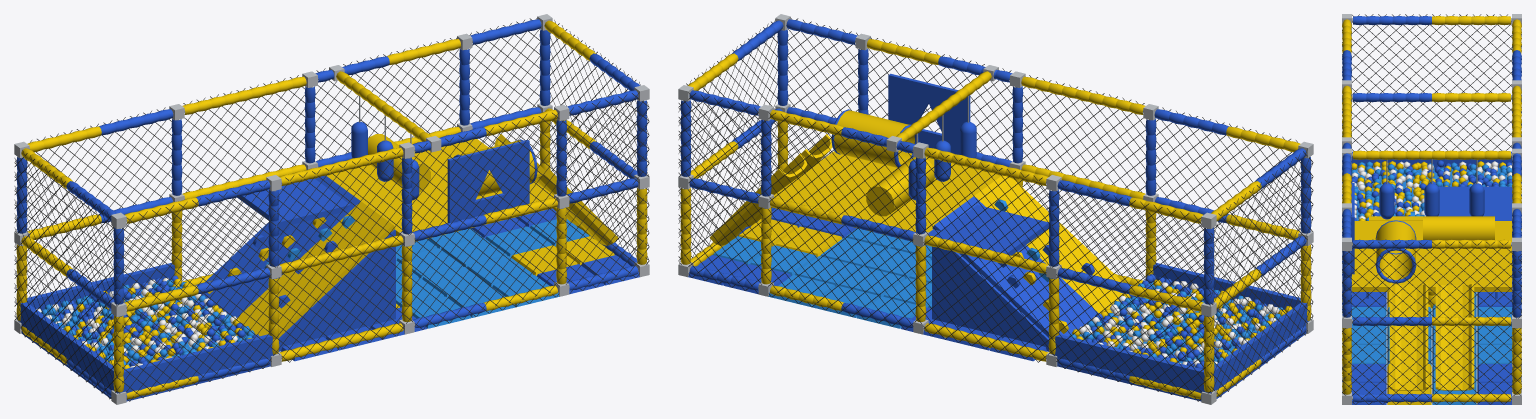
Rendered from web.glb.
3 views of the same model, side by side, from view 1: azimuth 30°, elevation 25°; view 2: azimuth 150°, elevation 25°; view 3: azimuth 270°, elevation 25° (orthographic). The views are drawn at different scales.
Visible parts, largest first — view 1: isotubo, rede, plataforma, piso, acolchoado, bolinhas, metal, plastico; view 2: isotubo, rede, plataforma, piso, acolchoado, bolinhas, metal, plastico; view 3: isotubo, rede, plataforma, piso, plastico, acolchoado, bolinhas, metal.
Boxes of the visible parts, x1,y1,x2,y2 form: isotubo: [16, 19, 647, 399]; rede: [14, 17, 649, 401]; plataforma: [201, 139, 556, 351]; piso: [281, 208, 639, 361]; acolchoado: [17, 121, 537, 401]; bolinhas: [36, 275, 259, 368]; metal: [14, 14, 649, 404]; plastico: [208, 134, 618, 308]; isotubo: [680, 19, 1311, 399]; rede: [678, 17, 1313, 401]; plataforma: [771, 73, 1123, 351]; piso: [688, 208, 1046, 361]; acolchoado: [831, 109, 1310, 401]; bolinhas: [1069, 274, 1292, 368]; metal: [678, 14, 1313, 404]; plastico: [709, 134, 1094, 333]; isotubo: [1342, 16, 1521, 402]; rede: [1342, 14, 1521, 404]; plataforma: [1351, 183, 1512, 298]; piso: [1342, 292, 1521, 404]; plastico: [1389, 211, 1474, 390]; acolchoado: [1352, 151, 1511, 283]; bolinhas: [1351, 160, 1512, 220]; metal: [1342, 14, 1521, 404].
Size of the model in its own units: 6 by 2 by 2.
8 materials, 8 textured.
